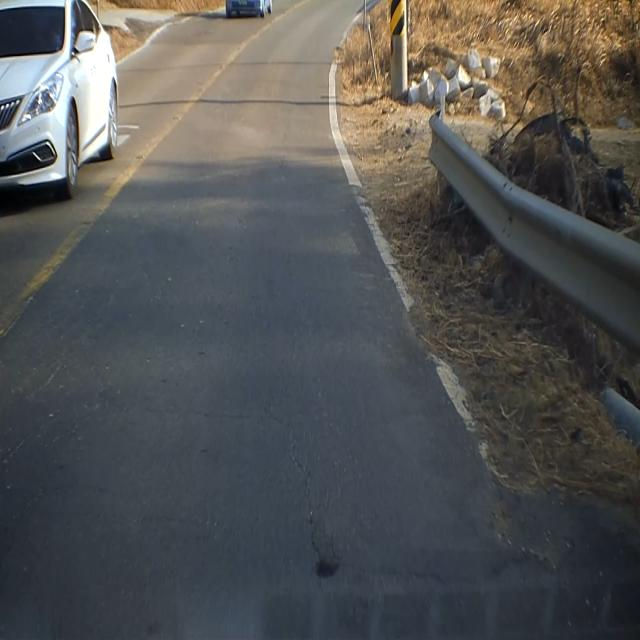Pothole: (306, 539, 346, 597)
